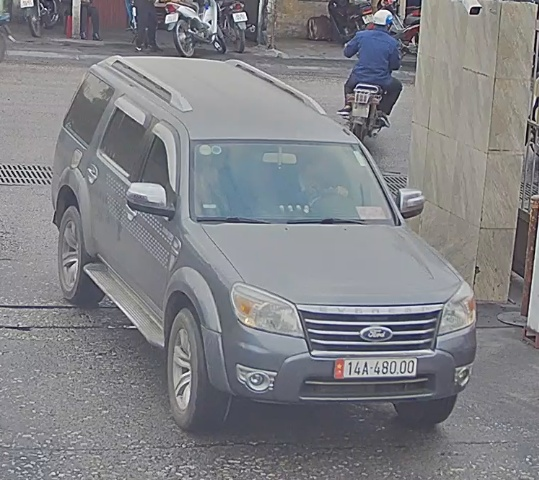vehicle plate: (333, 353, 424, 385)
